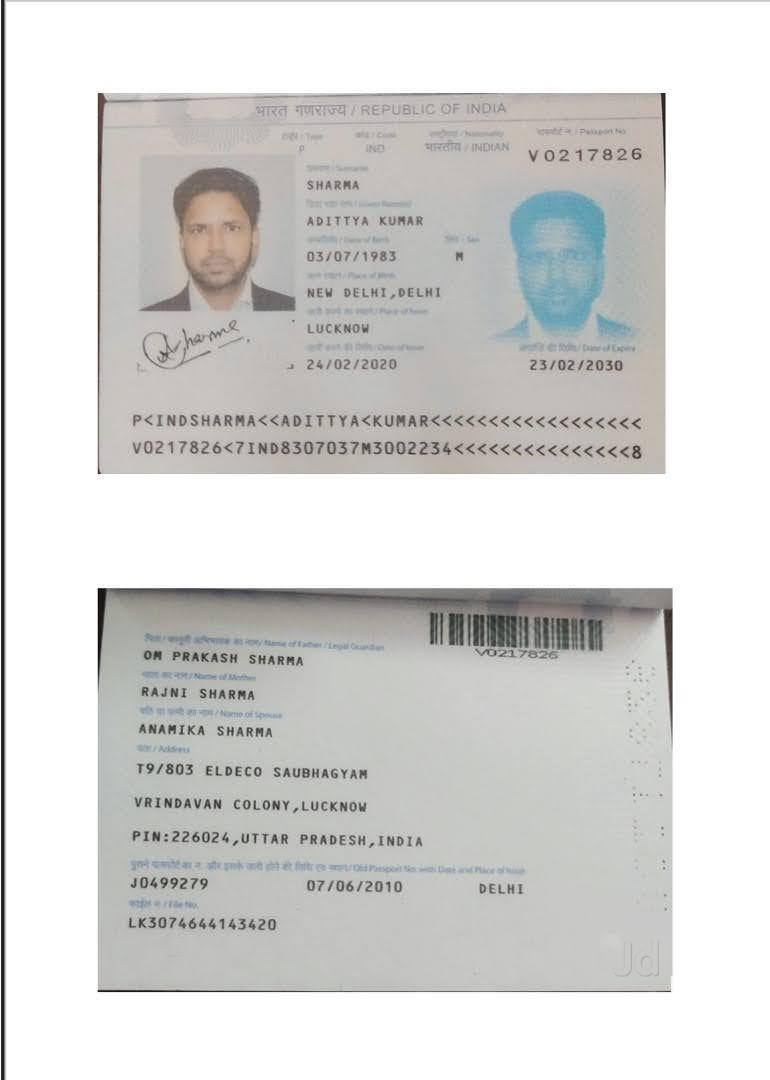DOB: (301, 246, 404, 272)
File_no: (120, 913, 283, 938)
Surname: (304, 176, 366, 193)
address: (129, 753, 432, 855)
country_code: (359, 139, 397, 157)
date_of_expiry: (522, 355, 629, 379)
date_of_issue: (304, 354, 403, 375)
details: (119, 405, 655, 468)
father_name: (141, 641, 317, 671)
mother_name: (132, 677, 260, 708)
name: (303, 212, 423, 232)
nationality: (420, 140, 514, 157)
old_passport_details: (123, 867, 528, 902)
passport_no: (522, 143, 647, 174), (472, 646, 568, 668)
photo: (147, 161, 294, 305)
place_of_birth: (305, 284, 449, 309)
place_of_issue: (303, 318, 377, 340)
sex: (446, 245, 474, 268)
sign: (141, 320, 262, 369)
spouse_name: (138, 714, 276, 749)
type: (295, 138, 312, 163)
